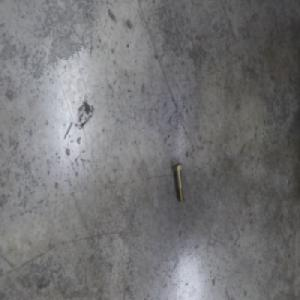Bolt: (175, 161, 187, 203)
